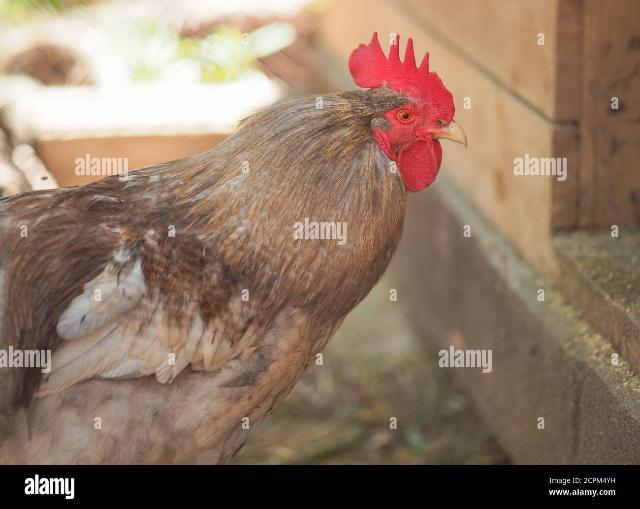Chicken: (0, 32, 469, 464)
